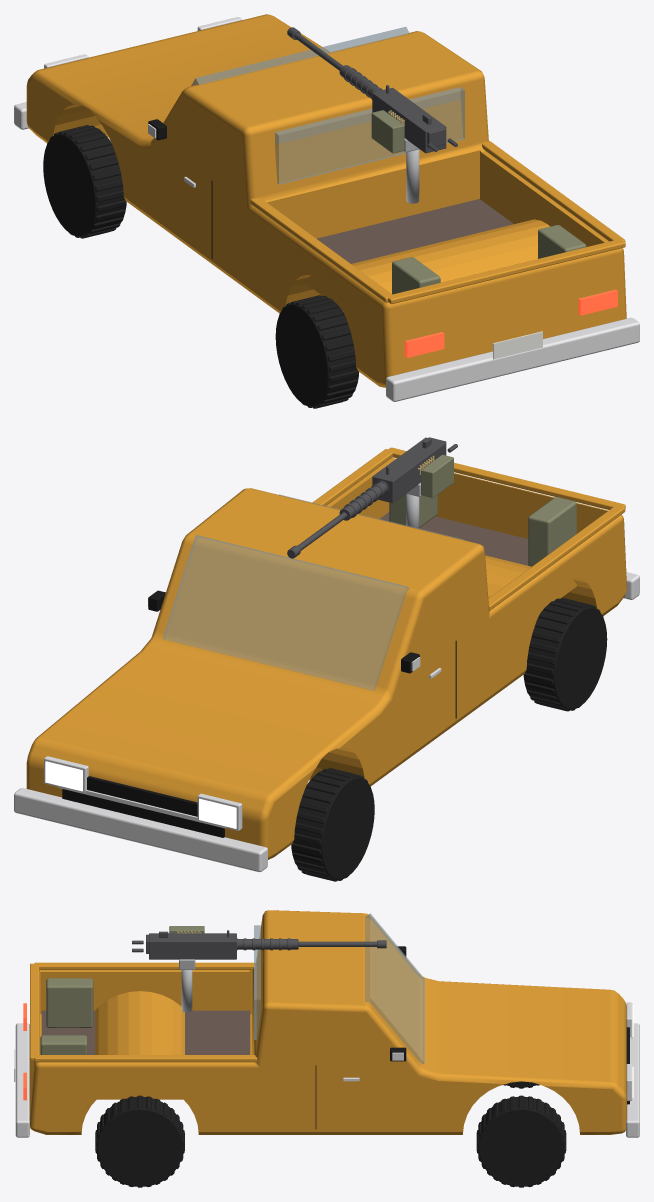
File: pickup0.glb
3 renders of one model, top to bottom at view 1: azimuth 30°, elevation 25°; view 2: azimuth 150°, elevation 25°; view 3: azimuth 270°, elevation 25°, orthographic. The views are drawn at different scales.
Visible parts, largest first — view 1: body, tire, tire.001, rear_glass, bumper_r, bed_floor, mg, tailgate_edge, bed_rail, bed_rail.001, windshield, jerrycan (+6 smaller); view 2: body, windshield, tire, tire.001, bumper_f, mg, grille, jerrycan, bed_floor, bed_rail, tailgate_edge, ammo_box (+5 smaller); view 3: body, tire.002, tire.003, windshield, mg, bed_floor, jerrycan, bed_rail.001, bed_rail, bumper_r, bumper_f, jerrycan.001 (+3 smaller).
Part boxes in pixels (left/top/right/bottom): body: left=26, top=14, right=626, bottom=387; tire: left=43, top=125, right=126, bottom=238; tire.001: left=275, top=295, right=359, bottom=408; rear_glass: left=275, top=87, right=464, bottom=184; bumper_r: left=386, top=317, right=639, bottom=401; bed_floor: left=317, top=199, right=513, bottom=263; mg: left=287, top=27, right=457, bottom=153; tailgate_edge: left=388, top=239, right=625, bottom=304; bed_rail: left=250, top=198, right=393, bottom=302; bed_rail.001: left=482, top=141, right=625, bottom=241; windshield: left=191, top=26, right=409, bottom=85; jerrycan: left=392, top=257, right=440, bottom=294; body: left=26, top=458, right=626, bottom=859; windshield: left=162, top=535, right=409, bottom=690; tire: left=291, top=768, right=374, bottom=881; tire.001: left=523, top=598, right=607, bottom=711; bumper_f: left=14, top=788, right=267, bottom=872; mg: left=287, top=437, right=457, bottom=558; grille: left=62, top=776, right=224, bottom=837; jerrycan: left=528, top=497, right=576, bottom=566; bed_floor: left=380, top=512, right=528, bottom=565; bed_rail: left=488, top=505, right=625, bottom=610; tailgate_edge: left=388, top=447, right=625, bottom=509; ammo_box: left=421, top=454, right=453, bottom=497; body: left=29, top=910, right=626, bottom=1134; tire.002: left=476, top=1095, right=566, bottom=1187; tire.003: left=95, top=1095, right=184, bottom=1187; windshield: left=365, top=913, right=424, bottom=1064; mg: left=132, top=930, right=386, bottom=959; bed_floor: left=41, top=1010, right=250, bottom=1054; jerrycan: left=46, top=978, right=93, bottom=1027; bed_rail.001: left=34, top=1055, right=257, bottom=1062; bed_rail: left=34, top=962, right=255, bottom=969; bumper_r: left=15, top=1023, right=29, bottom=1137; bumper_f: left=626, top=1023, right=639, bottom=1137; jerrycan.001: left=40, top=1035, right=87, bottom=1054.
Bounding box in the file's own units: 2.26 × 1.9 × 5.34.
